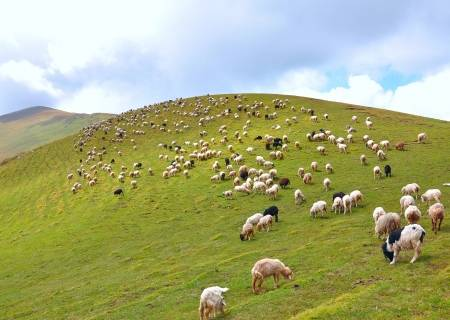sheep: (247, 255, 298, 295), (380, 224, 428, 266), (194, 283, 232, 320), (368, 212, 402, 237), (427, 201, 446, 235), (420, 185, 443, 204), (402, 206, 424, 225), (306, 200, 327, 219), (349, 186, 367, 208), (401, 182, 423, 200), (254, 215, 275, 233), (329, 195, 345, 216), (238, 223, 255, 242), (263, 201, 281, 218), (289, 187, 307, 204), (262, 183, 280, 200), (339, 191, 353, 211), (363, 116, 377, 131), (300, 171, 314, 185), (370, 164, 383, 179), (382, 162, 394, 178), (320, 177, 333, 191), (374, 148, 388, 161), (111, 187, 126, 198), (416, 131, 428, 144), (316, 144, 328, 156), (358, 153, 368, 167), (348, 114, 360, 125), (221, 187, 234, 197), (335, 141, 348, 150), (129, 179, 140, 189), (209, 173, 219, 183)
